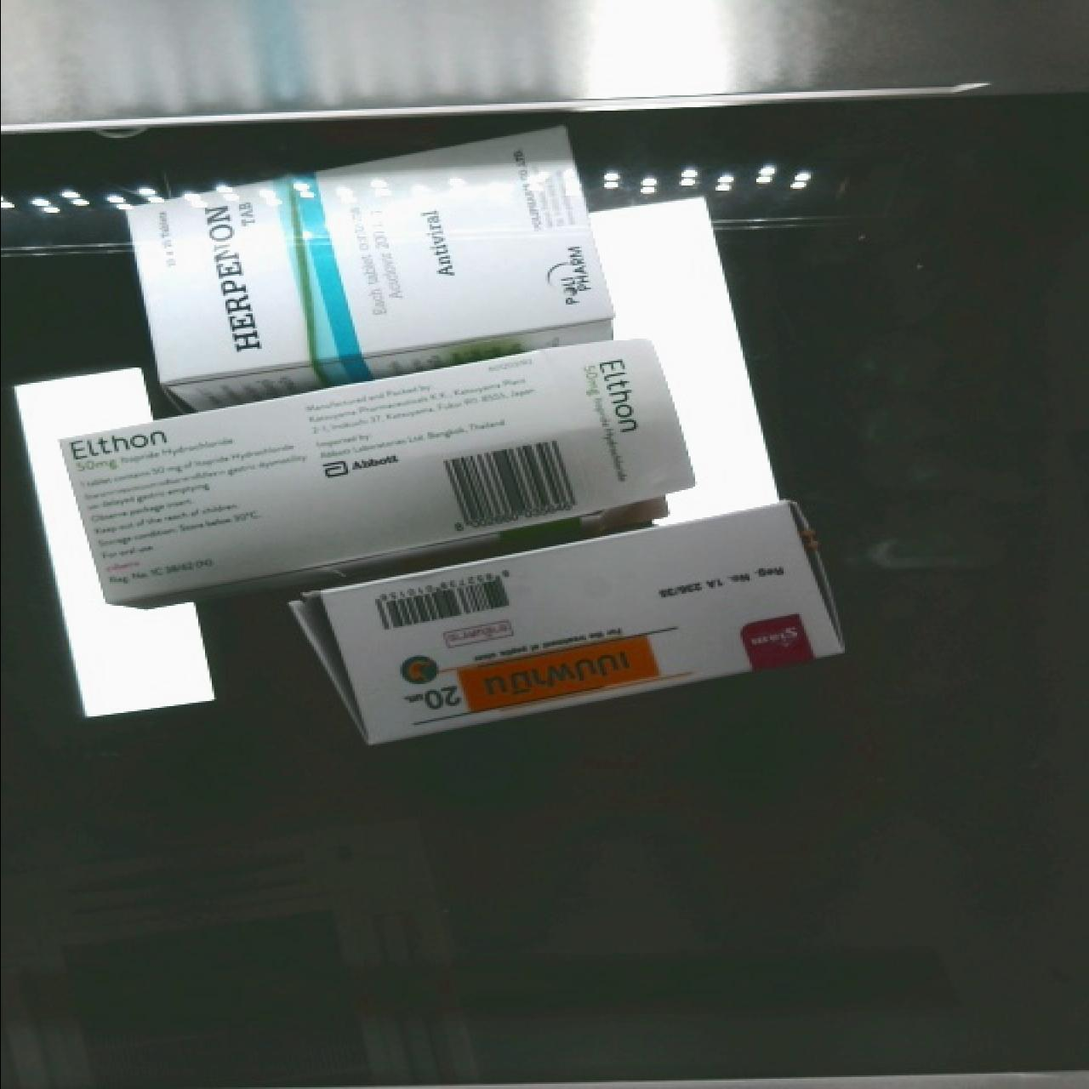medicine_label_obb: (379, 628, 673, 731), (171, 181, 286, 380), (61, 411, 193, 478)
